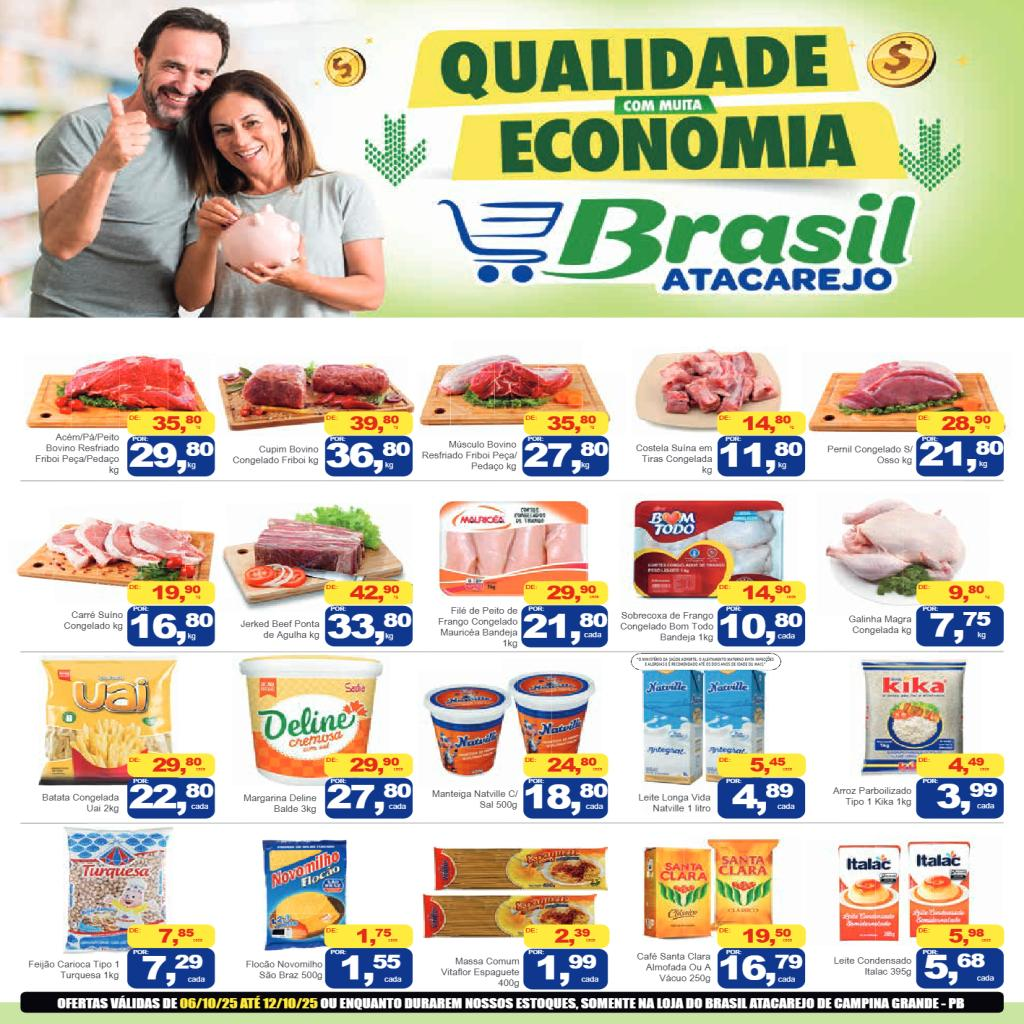price: (128, 783, 214, 817), (326, 783, 412, 817), (128, 441, 213, 475), (522, 612, 607, 646), (326, 440, 410, 474), (718, 954, 804, 987), (129, 612, 214, 645), (524, 783, 608, 816), (327, 612, 412, 644), (720, 442, 804, 474), (524, 442, 608, 474), (720, 612, 803, 644), (919, 441, 1004, 472), (923, 953, 996, 986), (140, 954, 208, 988), (339, 954, 405, 988), (934, 782, 999, 816), (536, 954, 601, 988), (928, 611, 994, 644), (730, 783, 798, 815)
product_text: (33, 432, 122, 476), (419, 438, 520, 476), (437, 604, 519, 650), (616, 609, 715, 645), (633, 441, 714, 477), (634, 950, 713, 986), (439, 956, 521, 989), (430, 785, 522, 813), (26, 958, 122, 984), (826, 442, 915, 469), (230, 442, 321, 468), (237, 617, 322, 643), (830, 784, 913, 810), (40, 790, 120, 816), (240, 791, 320, 817), (832, 955, 912, 979), (633, 791, 713, 814), (243, 958, 323, 981), (846, 612, 914, 638), (61, 610, 125, 632)
